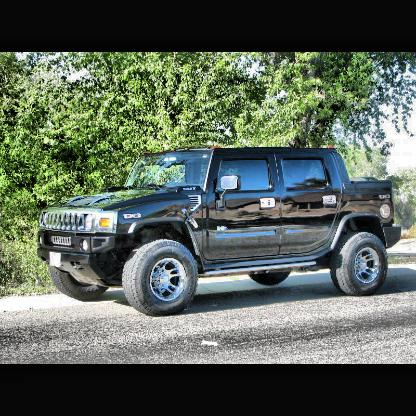HUMMER H2 SUT Crew Cab 2009: (38, 149, 402, 317)
